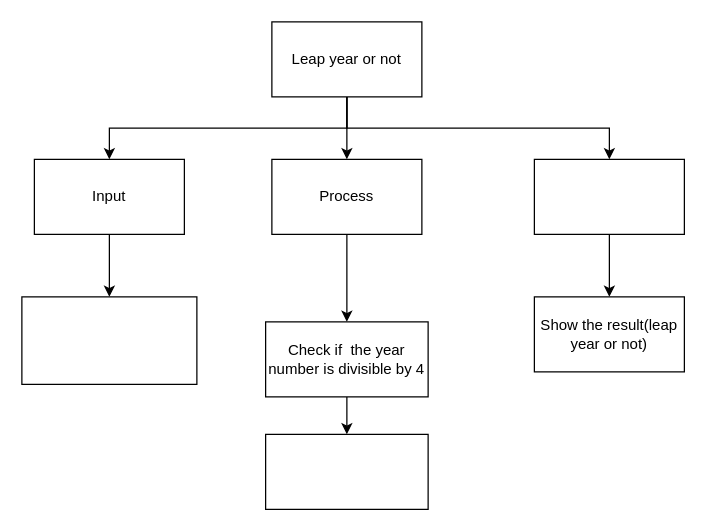
Some shapes in this 706 by 531 pixel diagram are drawn without their labels. Each missing label, with the centre of its shape:
"Check if the year is divisible by 100 and also divisible by 400" goes at point (346, 471).
"Get the year number entered" goes at point (109, 340).
"Output" goes at point (608, 196).
